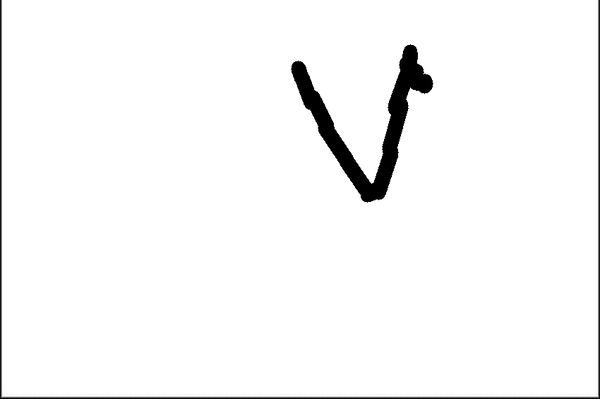V: (284, 42, 448, 237)
